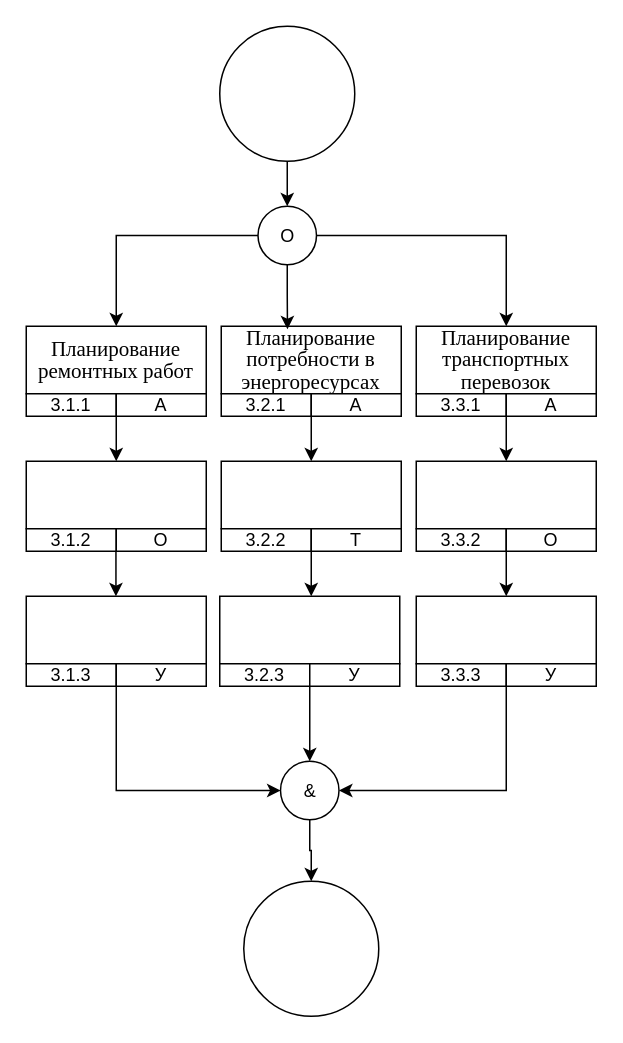
Image size: 623x1043. Some labels were removed from this diagram. Here are the shapes that lost their labels. From the top down, the centre of each, then its label:
[286,93]: Точка начала бизнес процесса
[115,494]: Формирование графиков проектно-производственных работ
[310,494]: Оперативный контроль параметров энергоснабжения
[505,494]: Диспетчеризация транспортных потоков
[115,629]: Учет выполненных ремонтов
[309,629]: Учет потребления энергоресурсов
[505,629]: Учет работы транспорта
[310,948]: Точка окончания бизнес процесса
